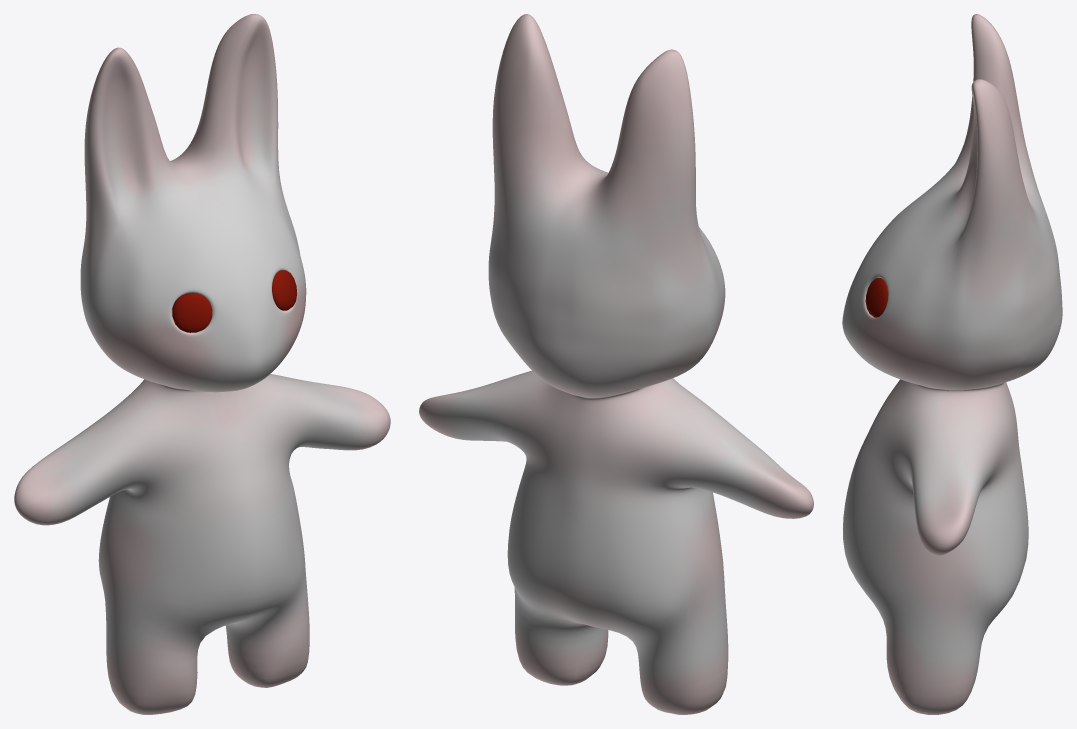
Rendered from Tony_real.fbx.
3 views of the same model, side by side, from view 1: azimuth 30°, elevation 25°; view 2: azimuth 150°, elevation 25°; view 3: azimuth 270°, elevation 25° (orthographic). The views are drawn at different scales.
Visible parts, largest first — view 1: Cube, Cube.002, Cube.001; view 2: Cube; view 3: Cube, Cube.001.
Boxes of the visible parts, left/top/right/bottom form: Cube: left=14, top=14, right=390, bottom=714; Cube.002: left=172, top=293, right=212, bottom=332; Cube.001: left=272, top=270, right=297, bottom=310; Cube: left=419, top=14, right=813, bottom=714; Cube: left=842, top=14, right=1062, bottom=714; Cube.001: left=865, top=278, right=888, bottom=317.
Size of the model in its own units: 147 by 245 by 77.17.
2 materials, 1 textured.
